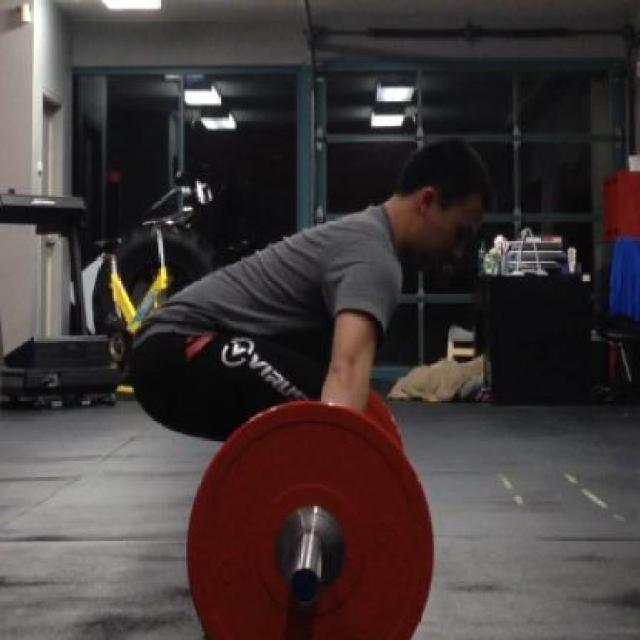barbell: (181, 396, 441, 640)
